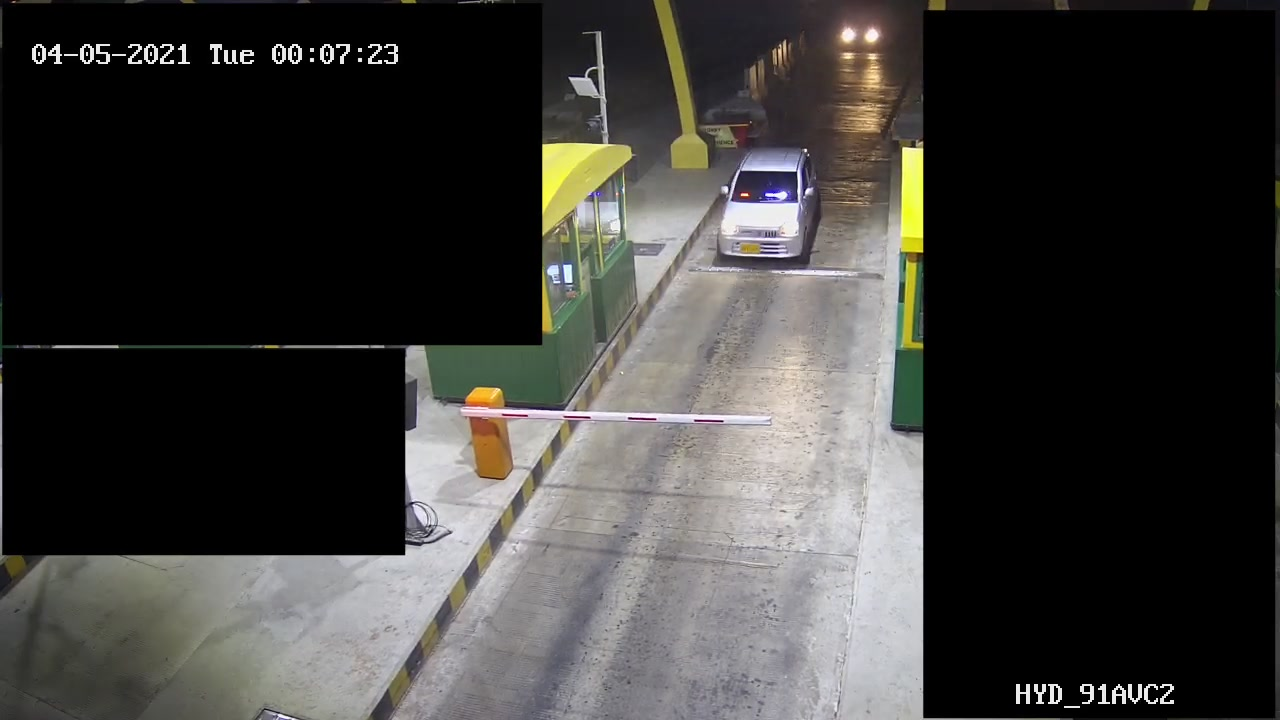F1: (709, 139, 827, 274)
